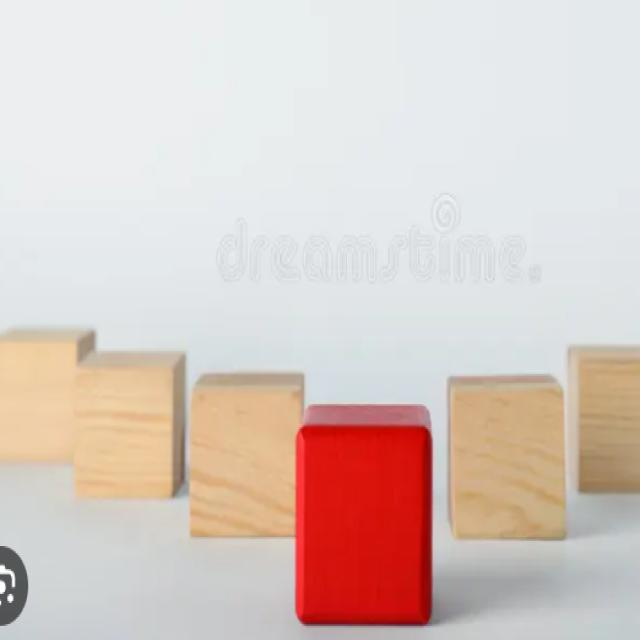red cube: (294, 404, 433, 628)
